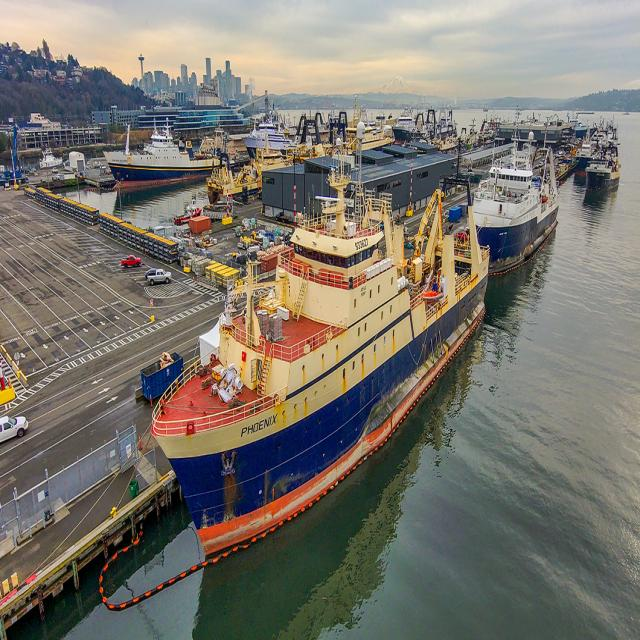boat: (142, 154, 500, 564)
